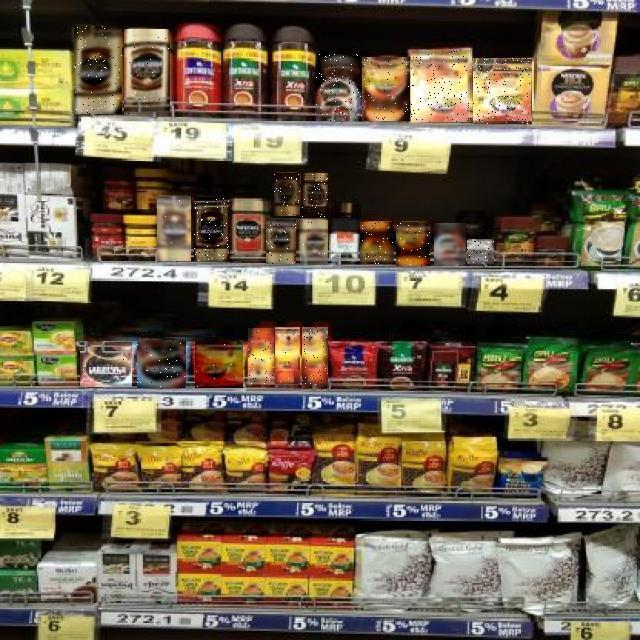Coffee: (412, 50, 472, 122), (75, 26, 123, 114), (125, 30, 171, 116), (473, 59, 532, 125), (316, 54, 362, 121), (362, 57, 410, 121), (80, 341, 132, 387), (137, 341, 186, 389), (195, 197, 231, 261), (195, 341, 243, 389), (157, 196, 191, 261), (303, 328, 329, 388), (275, 328, 300, 388), (396, 222, 430, 266), (248, 328, 274, 384), (360, 222, 394, 264), (266, 218, 296, 264), (434, 224, 466, 266), (300, 220, 328, 265), (303, 174, 329, 218), (274, 173, 300, 216), (468, 240, 496, 266)
